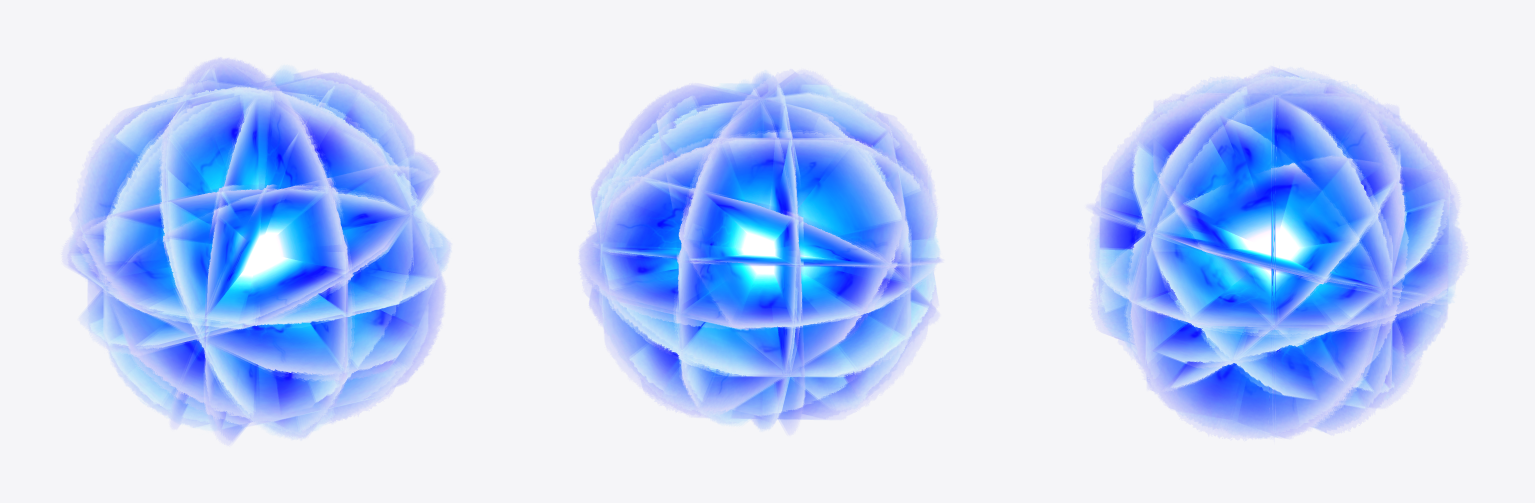
File: explosion-blue.glb
The picture shows the model from 3 angles, left to right: view 1: azimuth 30°, elevation 25°; view 2: azimuth 150°, elevation 25°; view 3: azimuth 270°, elevation 25°; orthographic projection. The views are drawn at different scales.
Parts seen in each view (by area): view 1: Object_2; view 2: Object_2; view 3: Object_2.
Part boxes in pixels (bbox=[...]): Object_2: bbox=[68, 60, 448, 440]; Object_2: bbox=[581, 73, 939, 428]; Object_2: bbox=[1093, 70, 1461, 436].
Size of the model in its own units: 7.06 by 7.07 by 7.07.
Materials: 1 (1 with a texture image).
